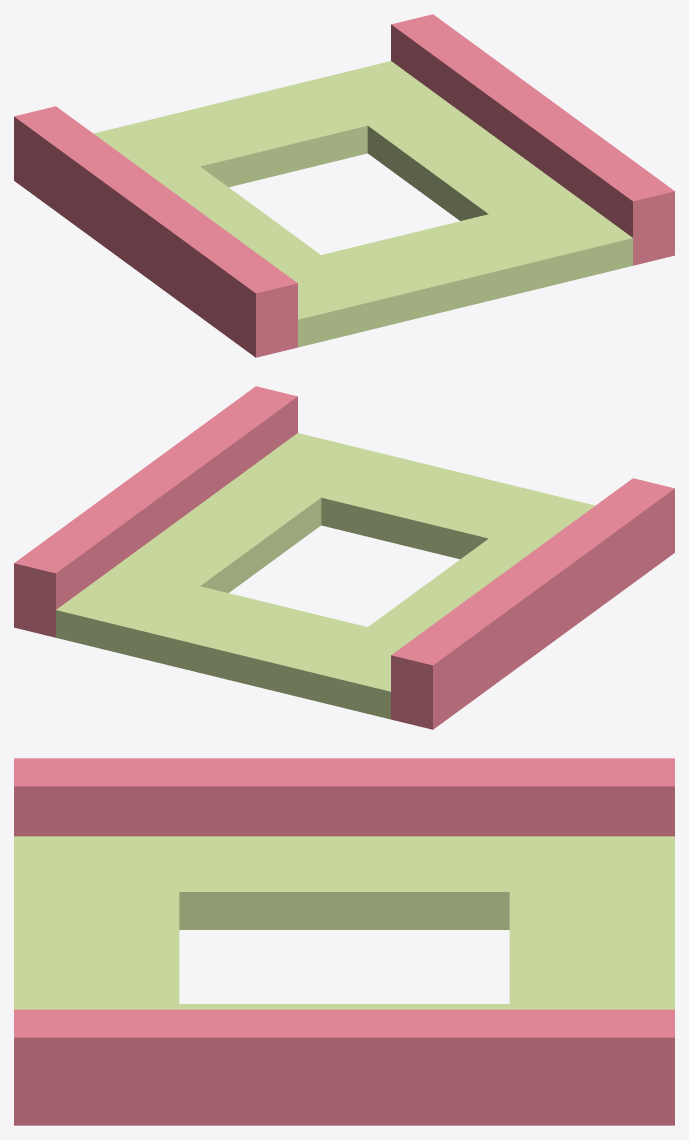
The model's file is gap.fbx.
3 views of the same model, one above another, from view 1: azimuth 30°, elevation 25°; view 2: azimuth 150°, elevation 25°; view 3: azimuth 270°, elevation 25° (orthographic). The views are drawn at different scales.
Visible parts, largest first — view 1: gap; view 2: gap; view 3: gap.
Part boxes in pixels (bbox=[...]): gap: bbox=[14, 14, 674, 357]; gap: bbox=[14, 386, 674, 729]; gap: bbox=[14, 758, 674, 1125].
Bounding box in the file's own units: 99.99 × 14.67 × 99.99.
